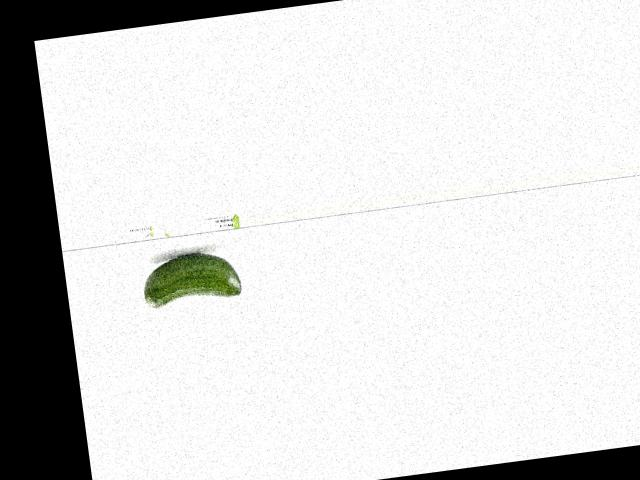cucumber: (139, 247, 241, 308)
